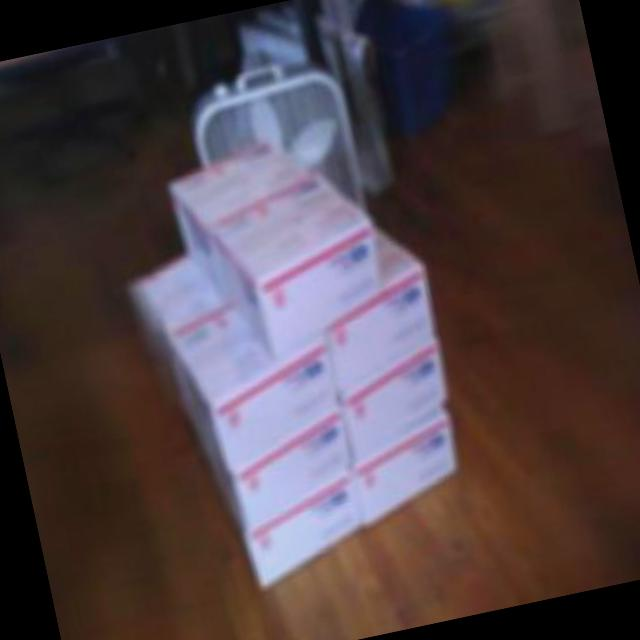box: (113, 118, 488, 595)
